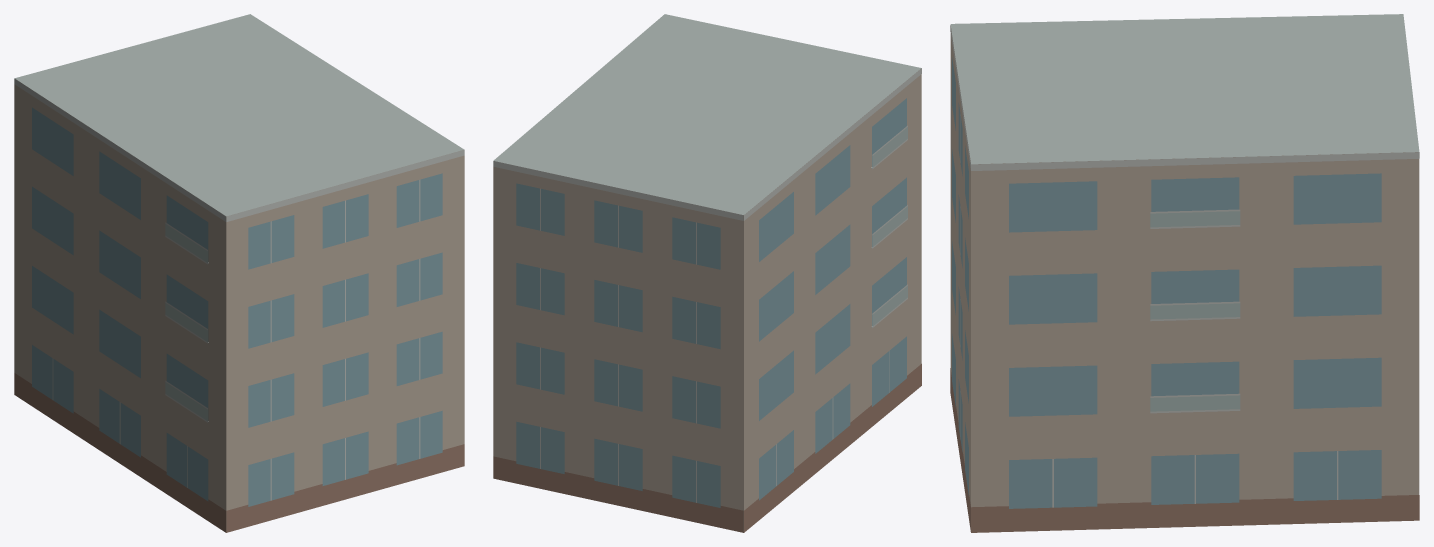
File: survey-upis-32616733.glb
The picture shows the model from 3 angles, left to right: view 1: azimuth 30°, elevation 25°; view 2: azimuth 150°, elevation 25°; view 3: azimuth 270°, elevation 25°; orthographic projection. The views are drawn at different scales.
Parts seen in each view (by area): view 1: survey-upis-32616733.tmp; view 2: survey-upis-32616733.tmp; view 3: survey-upis-32616733.tmp.
Part boxes in pixels (x1,y1,x2,y2): survey-upis-32616733.tmp: (14,14,464,532); survey-upis-32616733.tmp: (493,14,921,532); survey-upis-32616733.tmp: (950,14,1419,532).
Bounding box in the file's own units: 11.56 × 13.2 × 15.24.
